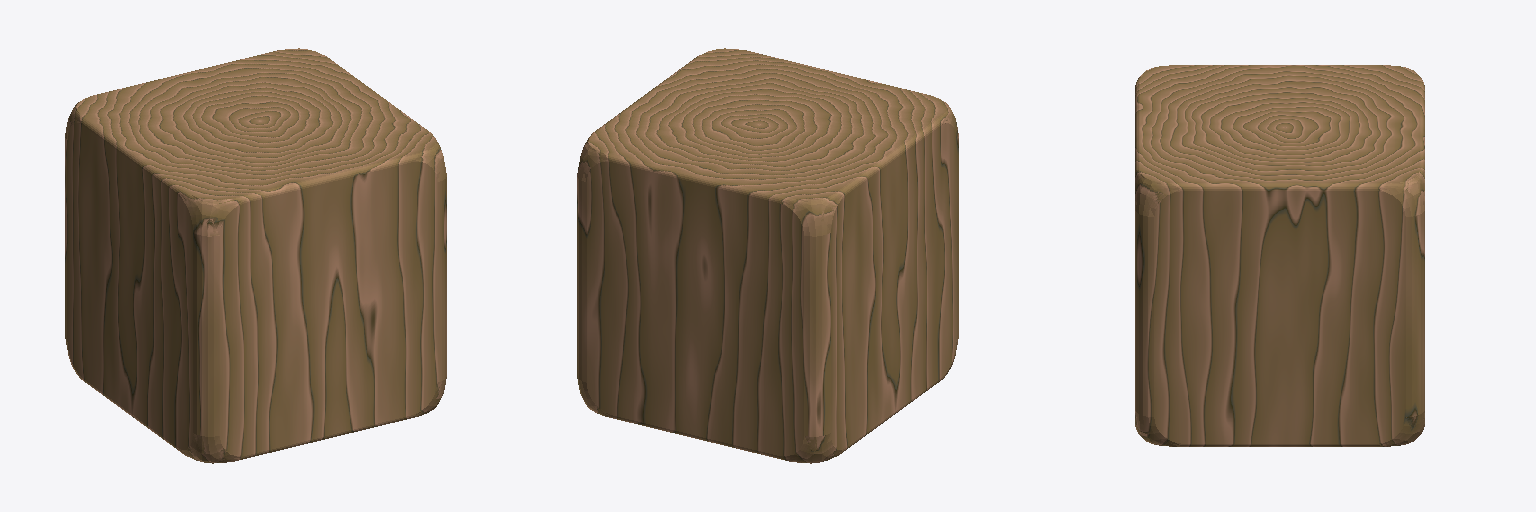
3 views of the same model, side by side, from view 1: azimuth 30°, elevation 25°; view 2: azimuth 150°, elevation 25°; view 3: azimuth 270°, elevation 25° (orthographic).
Parts seen in each view (by area): view 1: Cube; view 2: Cube; view 3: Cube.
Boxes of the visible parts, x1,y1,x2,y2 form: Cube: [65, 48, 446, 463]; Cube: [577, 48, 958, 463]; Cube: [1135, 65, 1424, 446].
Size of the model in its own units: 1 by 1 by 1.
1 materials, 1 textured.